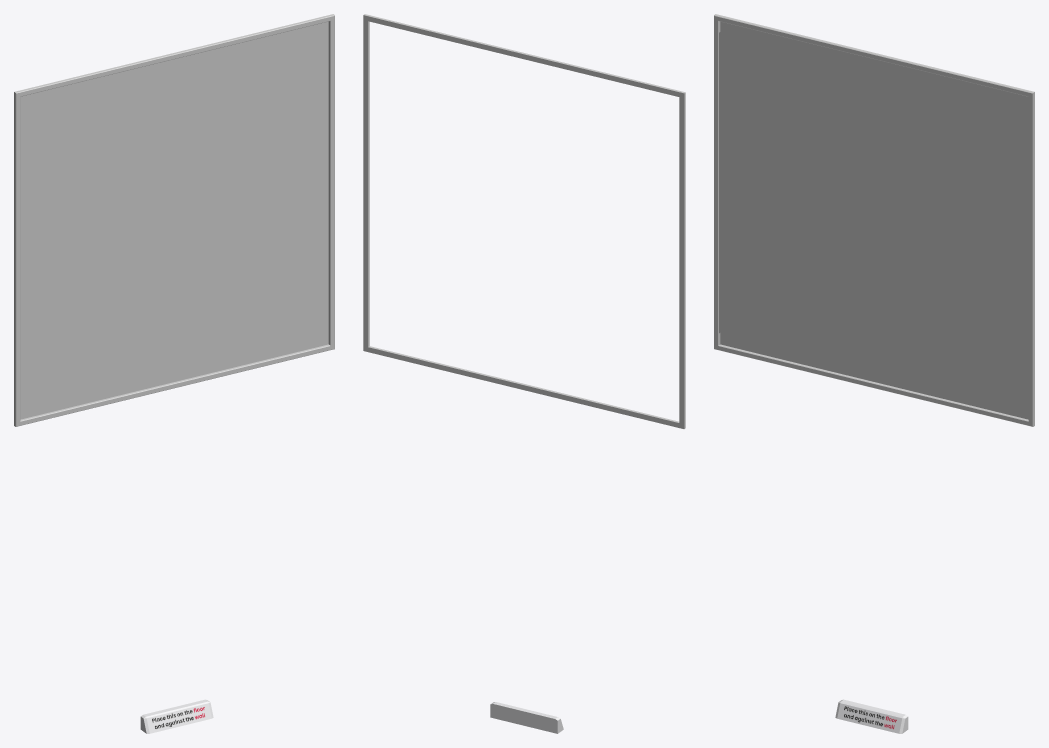
File: frame.glb
The picture shows the model from 3 angles, left to right: view 1: azimuth 30°, elevation 25°; view 2: azimuth 150°, elevation 25°; view 3: azimuth 330°, elevation 25°; orthographic projection.
Parts seen in each view (by area): view 1: viewport, left, right, top, bottom, stopper; view 2: left, right, top, bottom, stopper; view 3: viewport, right, top, bottom, stopper, left.
Part boxes in pixels (x1,y1,x2,y2): viewport: (20, 21, 328, 419); left: (14, 109, 20, 410); right: (328, 32, 334, 333); top: (30, 18, 319, 93); bottom: (30, 347, 319, 422); stopper: (140, 699, 213, 733); left: (679, 109, 685, 412); right: (363, 32, 369, 335); top: (379, 18, 669, 94); bottom: (379, 349, 668, 425); stopper: (490, 702, 563, 733); viewport: (719, 21, 1028, 419); right: (1028, 109, 1034, 410); top: (729, 18, 1018, 93); bottom: (729, 347, 1018, 422); stopper: (835, 699, 908, 733); left: (714, 32, 718, 333).
Bounding box in the file's own units: 1 × 2 × 0.0385.
1 material, 1 textured.
